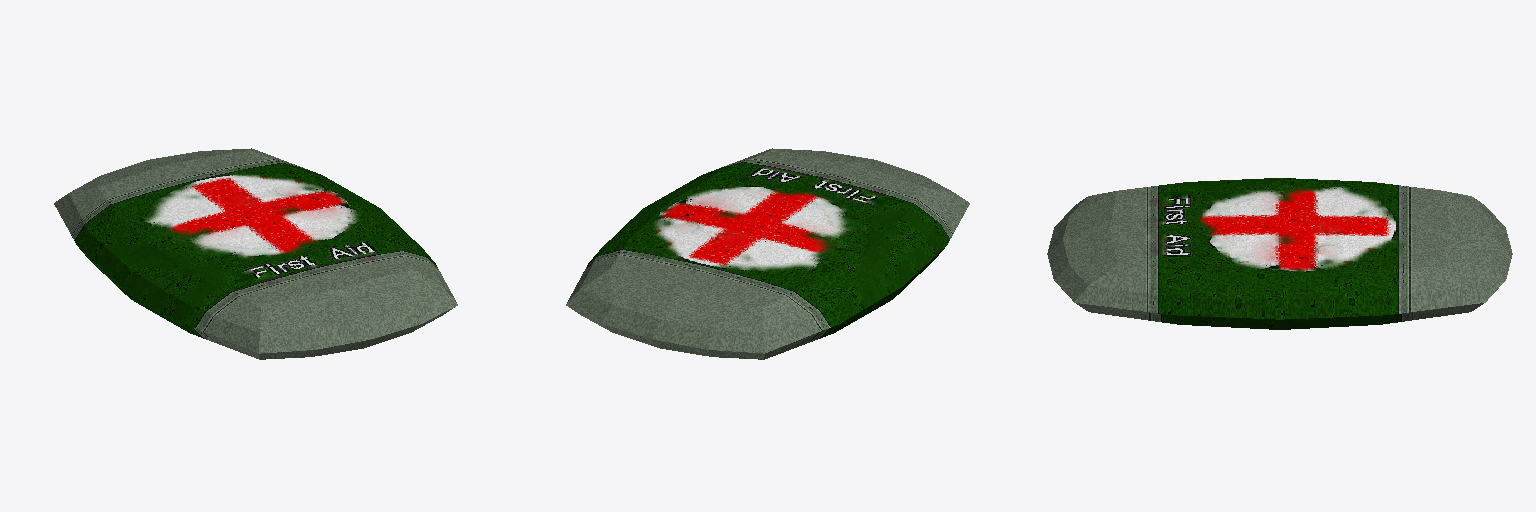
3 renders of one model, left to right at view 1: azimuth 30°, elevation 25°; view 2: azimuth 150°, elevation 25°; view 3: azimuth 270°, elevation 25°, orthographic.
Parts seen in each view (by area): view 1: polySurface1; view 2: polySurface1; view 3: polySurface1.
Part boxes in pixels (bbox=[...]): polySurface1: bbox=[54, 148, 457, 359]; polySurface1: bbox=[566, 148, 969, 359]; polySurface1: bbox=[1047, 178, 1512, 329].
Bounding box in the file's own units: 2.16 × 0.5402 × 3.25.
1 materials, 1 textured.